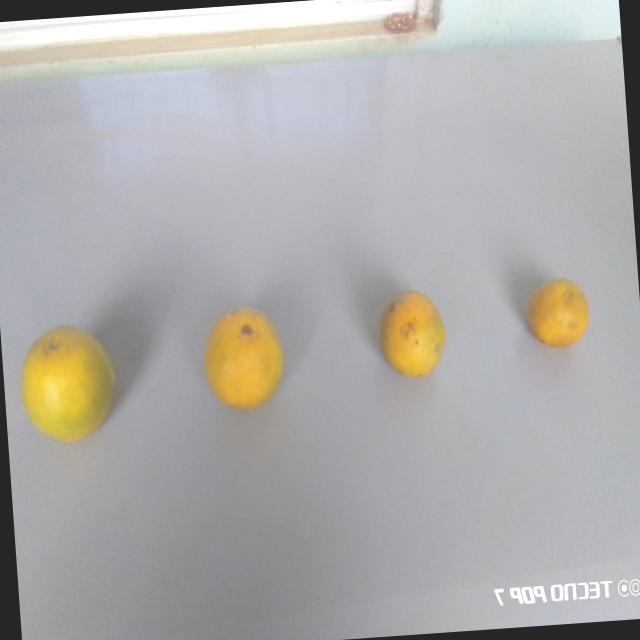agrume: (11, 305, 125, 458), (198, 300, 286, 423), (371, 272, 461, 388), (520, 273, 596, 355)
